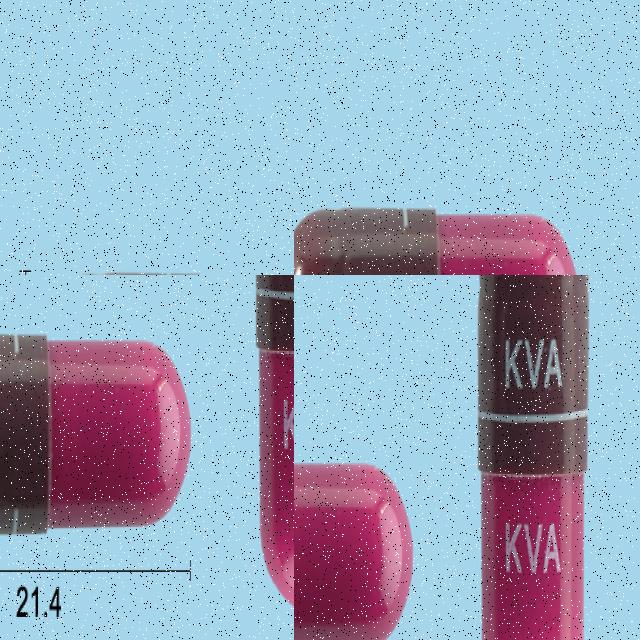Factive: (0, 353, 228, 640)
Levoflcin: (294, 0, 522, 275), (557, 0, 640, 275)
Vemlidy Tab: (479, 275, 590, 640), (294, 458, 415, 640)
